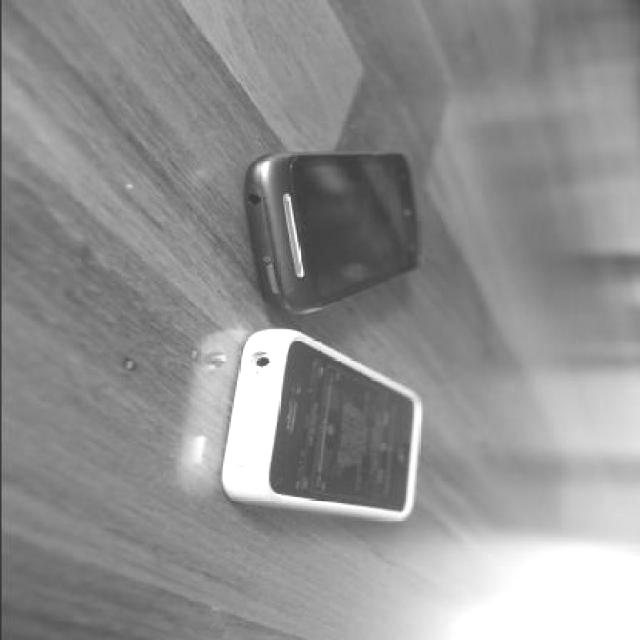fake: (220, 332, 418, 522), (246, 153, 422, 316)
